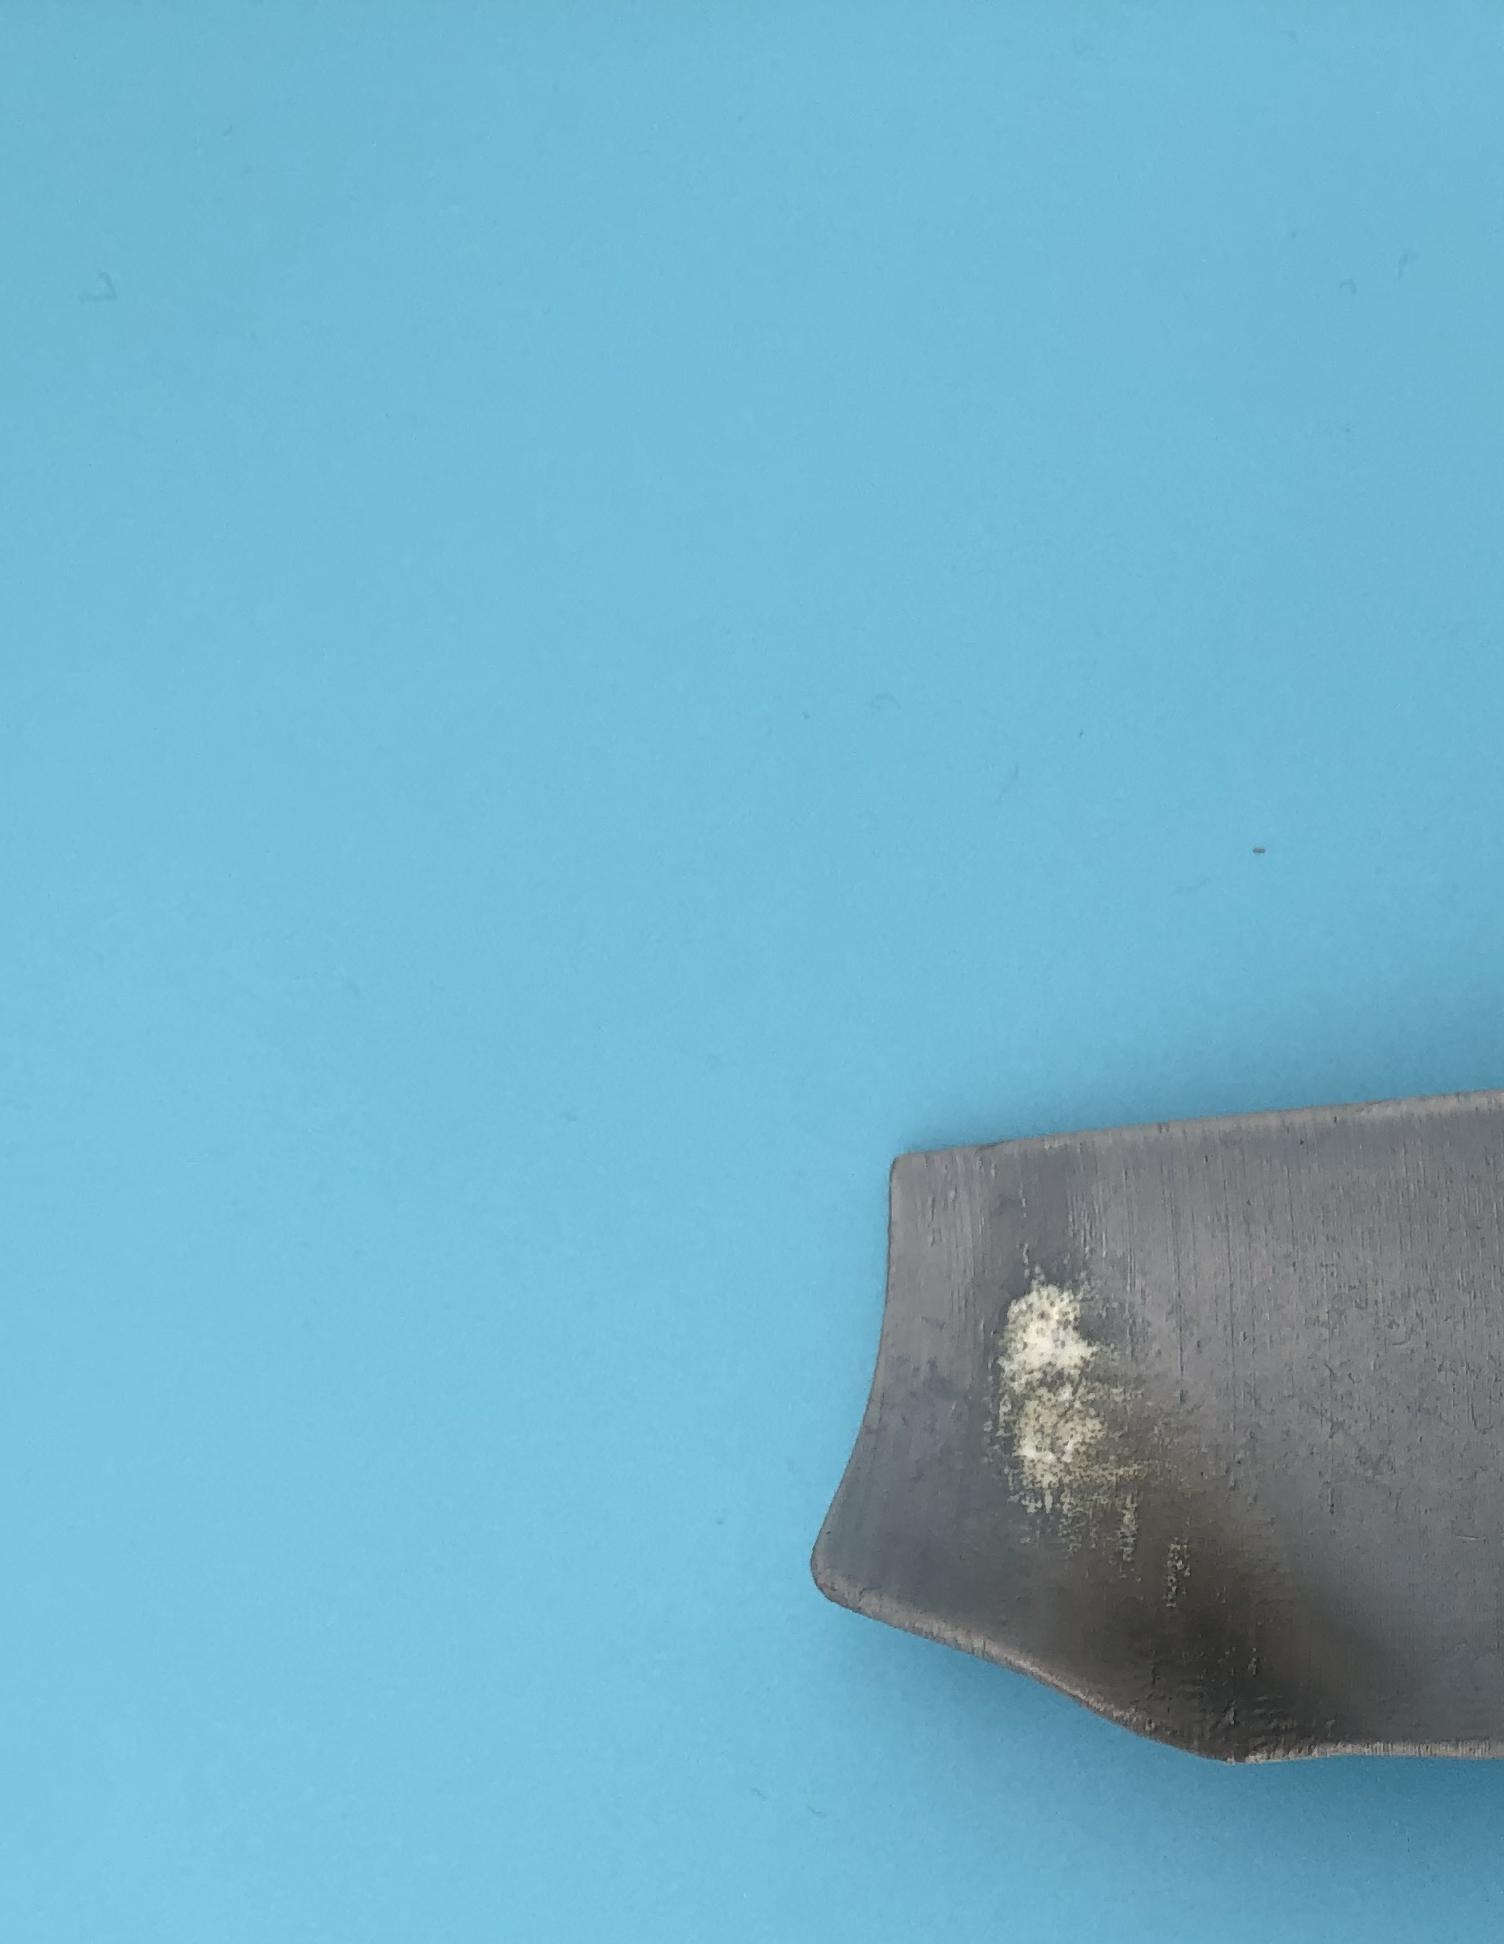ablation: (1089, 1426, 1398, 1751)
